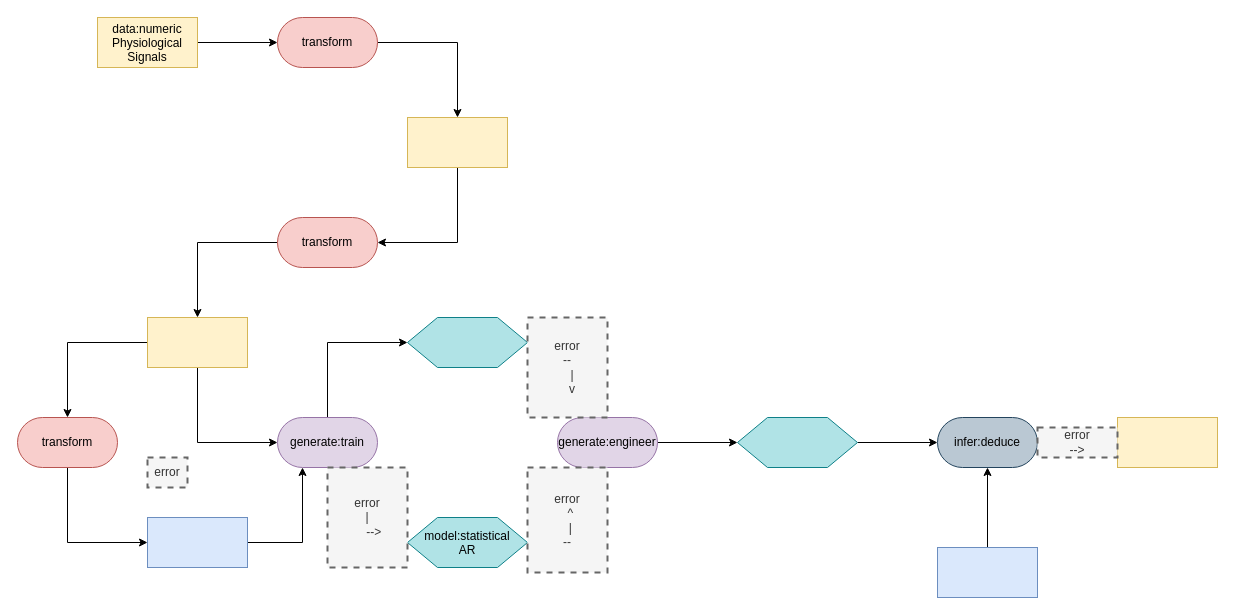
Some shapes in this 1235 by 615 pixel diagram are drawn without their labels. Here are the shapes that lost their labels. From the top down, the centre of each, then its label:
the point at 457,142: data:numeric Resampled Signals
the point at 197,342: data:numeric Seperated Signal Components
the point at 467,342: model:semantic NFIS
the point at 797,442: model:hybrid ANFIS
the point at 1167,442: data Physiological Data
the point at 197,542: symbol Degree of Correlation
the point at 987,572: symbol Cardiovascular Predictions
